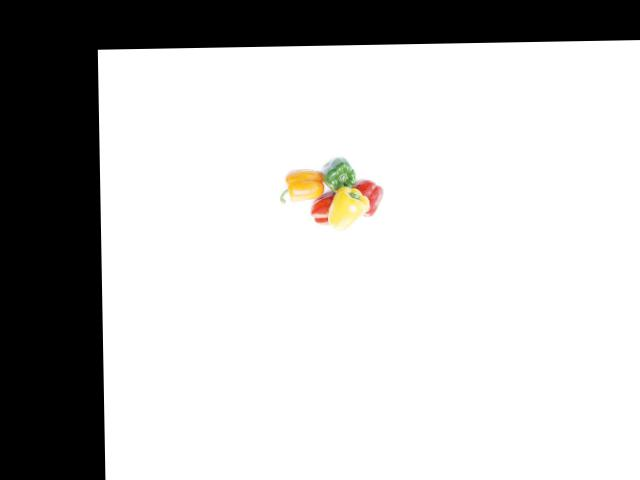bell_pepper: (319, 151, 364, 200)
